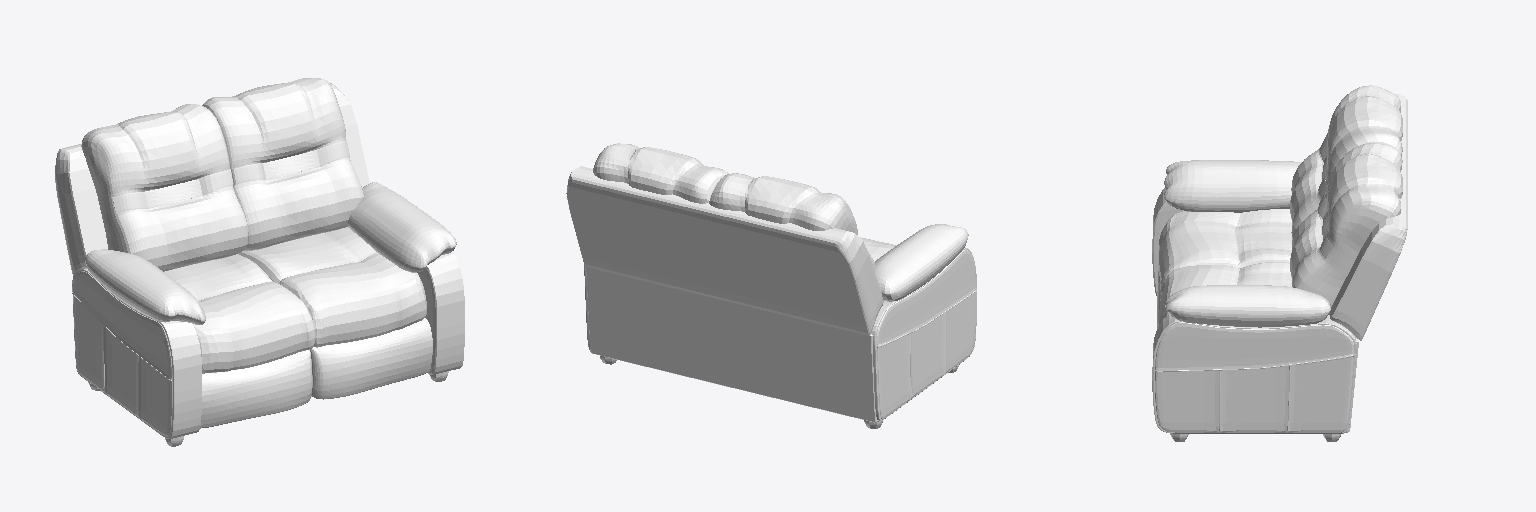
The model's file is mainsofa.obj.
3 renders of one model, left to right at view 1: azimuth 30°, elevation 25°; view 2: azimuth 150°, elevation 25°; view 3: azimuth 270°, elevation 25°, orthographic.
Visible parts, largest first — view 1: obj8, obj6, obj5, obj4, obj7, obj2, obj3; view 2: obj3, obj4, obj6, obj5, obj2; view 3: obj4, obj2, obj5, obj8, obj6, obj3.
Boxes of the visible parts, x1=… form: obj8: x1=164, y1=227, x2=426, y2=373; obj6: x1=81, y1=104, x2=247, y2=271; obj5: x1=202, y1=78, x2=363, y2=250; obj4: x1=72, y1=252, x2=464, y2=438; obj7: x1=200, y1=318, x2=432, y2=428; obj2: x1=85, y1=182, x2=456, y2=324; obj3: x1=55, y1=83, x2=369, y2=275; obj3: x1=566, y1=166, x2=883, y2=422; obj4: x1=584, y1=247, x2=976, y2=421; obj6: x1=709, y1=173, x2=875, y2=270; obj5: x1=593, y1=143, x2=728, y2=203; obj2: x1=875, y1=224, x2=968, y2=301; obj4: x1=1152, y1=188, x2=1356, y2=433; obj2: x1=1164, y1=160, x2=1330, y2=327; obj5: x1=1290, y1=143, x2=1402, y2=314; obj8: x1=1158, y1=209, x2=1291, y2=324; obj6: x1=1290, y1=85, x2=1402, y2=239; obj3: x1=1330, y1=94, x2=1407, y2=432.
Size of the model in its own units: 2.51 by 1.88 by 1.83.